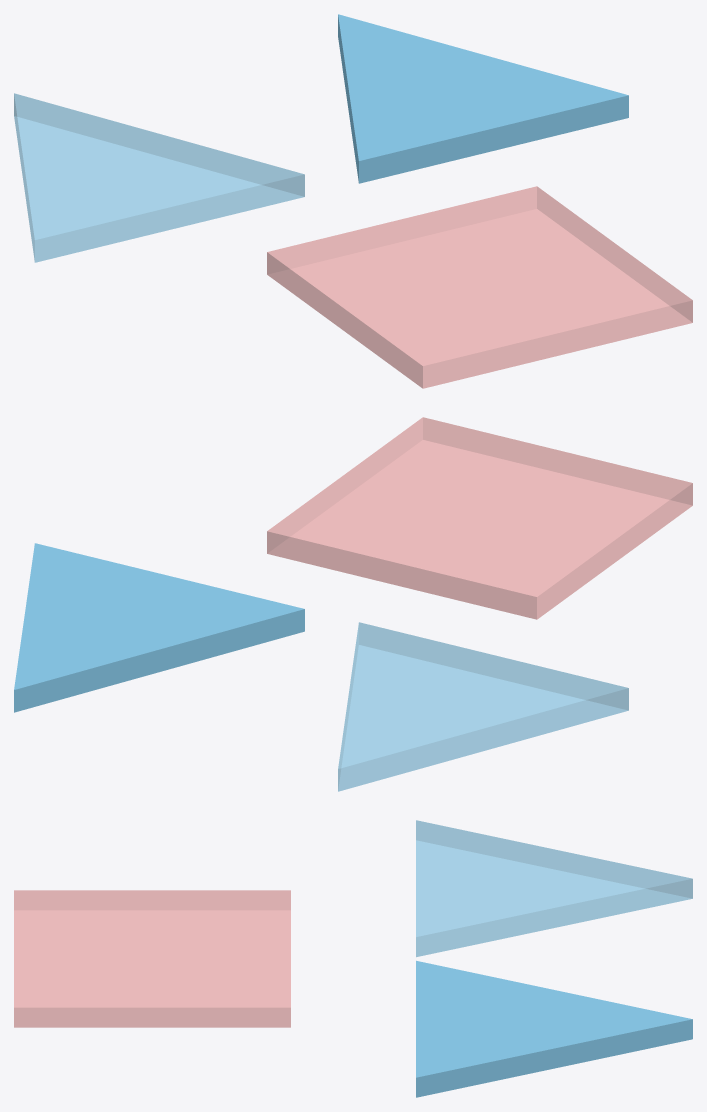
Rendered from casa_step4.glb.
3 views of the same model, one above another, from view 1: azimuth 30°, elevation 25°; view 2: azimuth 150°, elevation 25°; view 3: azimuth 270°, elevation 25° (orthographic). The views are drawn at different scales.
Parts seen in each view (by area): view 1: quadrato_grande, triangolo_isoscele_grande.001, triangolo_isoscele_grande; view 2: quadrato_grande, triangolo_isoscele_grande, triangolo_isoscele_grande.001; view 3: quadrato_grande, triangolo_isoscele_grande, triangolo_isoscele_grande.001.
Part boxes in pixels (box(x1,y1,x2,y2)): quadrato_grande: box(267, 186, 692, 388); triangolo_isoscele_grande.001: box(338, 14, 628, 183); triangolo_isoscele_grande: box(14, 93, 304, 262); quadrato_grande: box(267, 417, 692, 619); triangolo_isoscele_grande: box(338, 622, 628, 791); triangolo_isoscele_grande.001: box(14, 543, 304, 712); quadrato_grande: box(14, 890, 290, 1027); triangolo_isoscele_grande: box(416, 820, 692, 957); triangolo_isoscele_grande.001: box(416, 960, 692, 1097).
Size of the model in its own units: 2.2 by 0.08 by 2.45.
